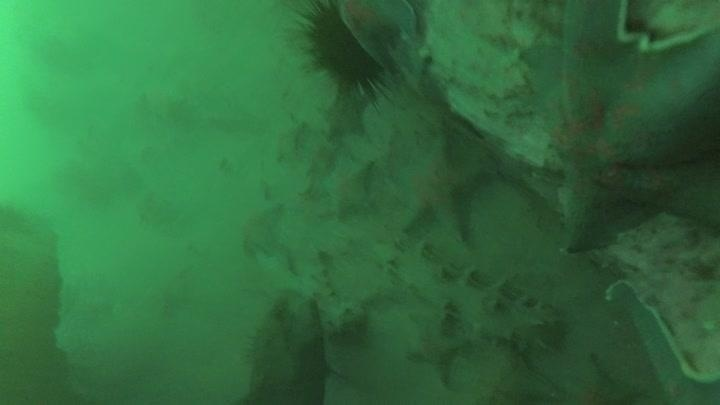echinus: (278, 3, 410, 101)
holothurian: (389, 240, 566, 356)
starfish: (515, 2, 719, 257), (555, 266, 720, 404), (390, 130, 496, 244), (331, 1, 440, 86), (402, 306, 469, 385), (315, 151, 378, 219), (319, 88, 372, 141)
